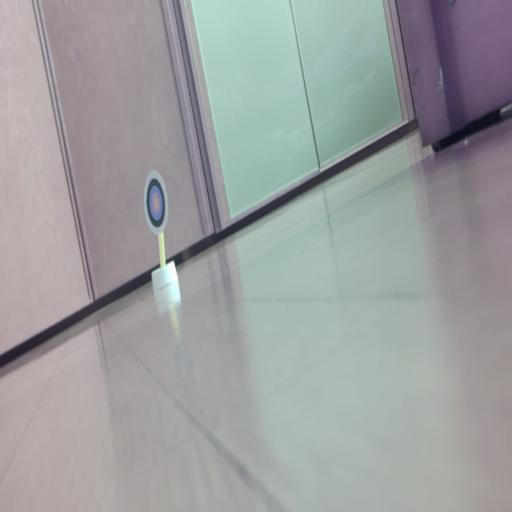target: (144, 171, 168, 235)
